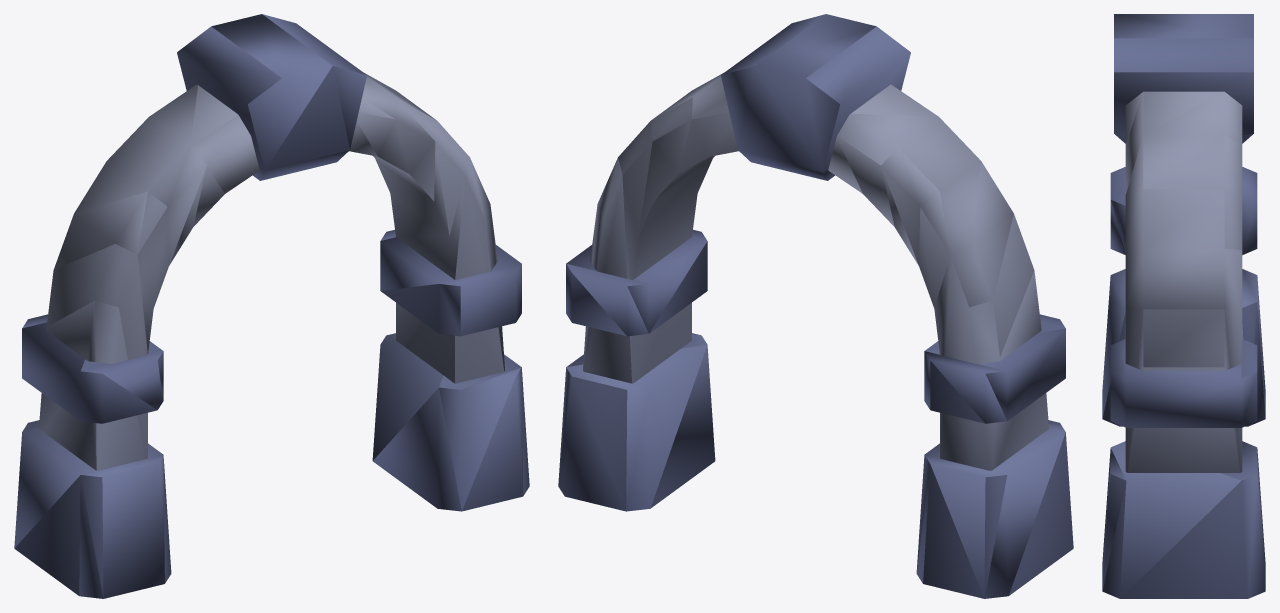
File: gate_lev2.glb
The picture shows the model from 3 angles, left to right: view 1: azimuth 30°, elevation 25°; view 2: azimuth 150°, elevation 25°; view 3: azimuth 270°, elevation 25°; orthographic projection.
Parts seen in each view (by area): view 1: gate_lev2; view 2: gate_lev2; view 3: gate_lev2.
Part boxes in pixels (x1,y1,x2,y2): gate_lev2: [14, 14, 529, 598]; gate_lev2: [558, 14, 1073, 598]; gate_lev2: [1102, 14, 1265, 598].
Bounding box in the file's own units: 4.4 × 4.4 × 1.4.
Materials: 1 (1 with a texture image).
